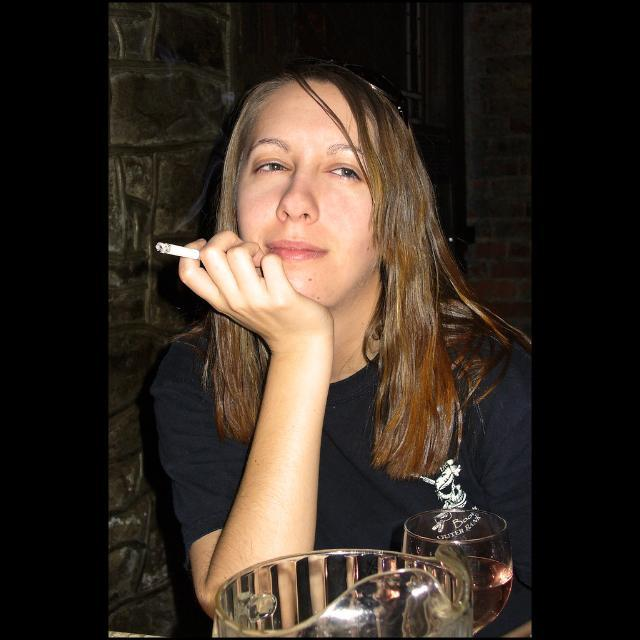rokok: (151, 234, 205, 262)
